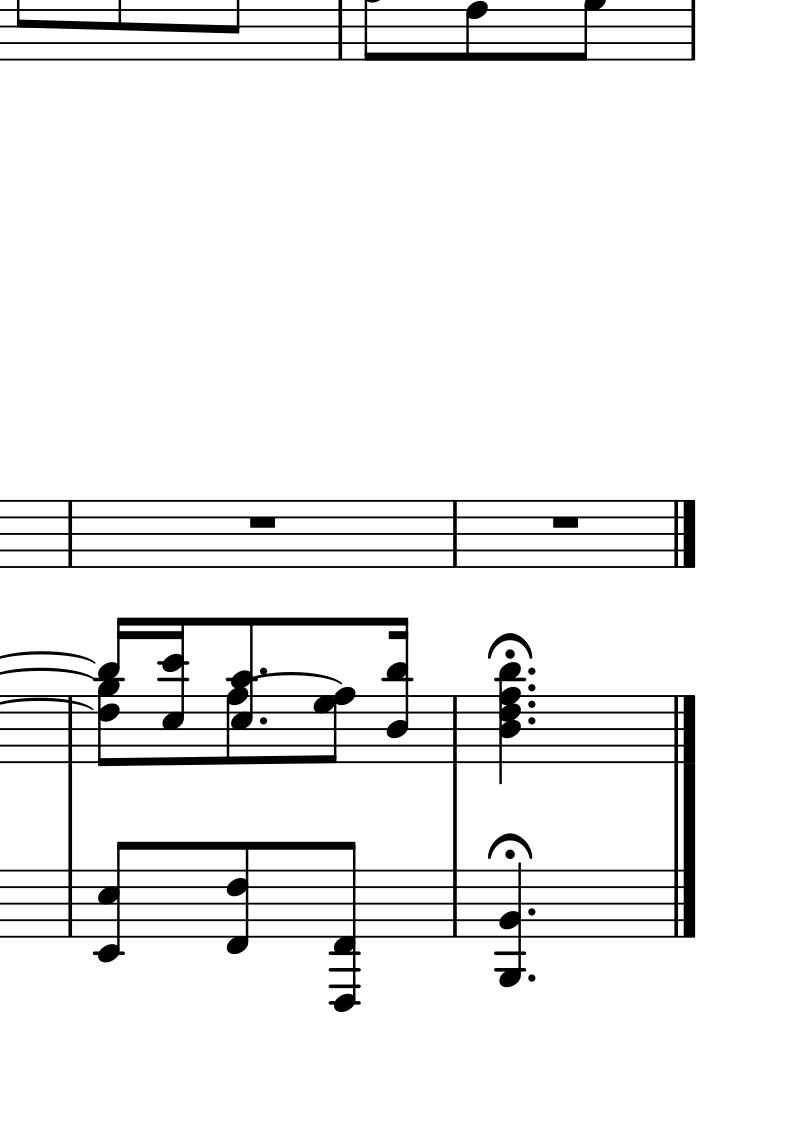4_4th: (491, 660, 525, 786)
8_-1_6: (225, 840, 250, 955)
8_-2_5: (94, 840, 135, 961)
8_-5_2: (496, 861, 527, 989)
8_-8_-1: (328, 840, 364, 1013)
Fermata_above: (484, 630, 537, 659), (485, 831, 532, 861)
Final_barline: (670, 693, 698, 762), (670, 868, 697, 936), (672, 500, 696, 567)
Rests1: (547, 512, 586, 534), (245, 512, 281, 532)
Single_barline: (446, 697, 465, 762), (63, 699, 82, 764), (62, 870, 80, 937), (447, 871, 464, 936), (447, 502, 464, 566), (63, 502, 79, 566)
Slur: (256, 670, 343, 683)
dot: (524, 714, 539, 728), (525, 697, 539, 711), (257, 714, 270, 728), (525, 904, 537, 919), (525, 681, 538, 693), (525, 665, 537, 677), (526, 972, 538, 984), (257, 666, 270, 674)
